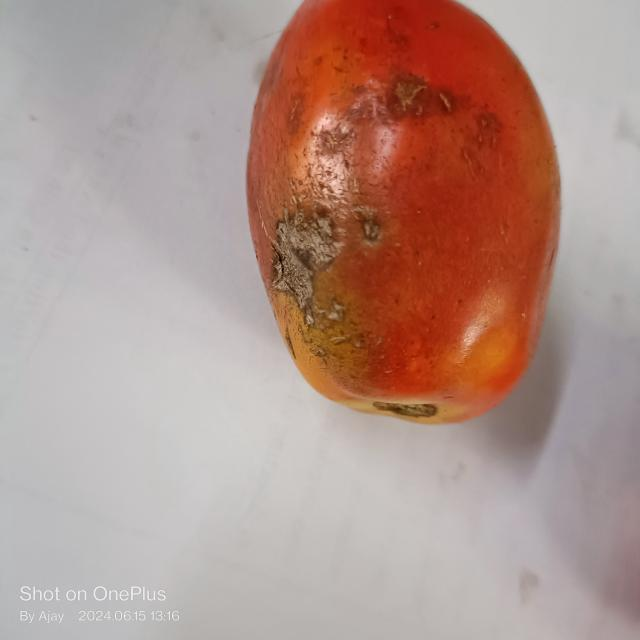Bacterial_Spot: (312, 72, 459, 162), (258, 198, 334, 331), (361, 216, 382, 246)
